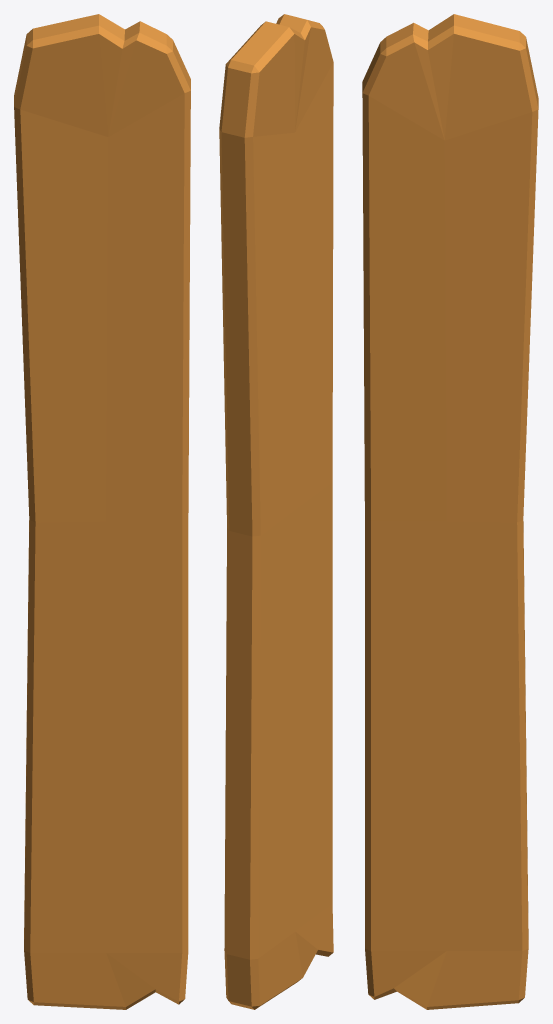
File: env_plank01.fbx
The picture shows the model from 3 angles, left to right: view 1: azimuth 90°, elevation 25°; view 2: azimuth 150°, elevation 25°; view 3: azimuth 270°, elevation 25°; orthographic projection. The views are drawn at different scales.
Parts seen in each view (by area): view 1: env_plank01; view 2: env_plank01; view 3: env_plank01.
Part boxes in pixels (x1=…): env_plank01: x1=14, y1=14, x2=190, y2=1009; env_plank01: x1=219, y1=14, x2=333, y2=1009; env_plank01: x1=362, y1=14, x2=538, y2=1009.
Bounding box in the file's own units: 3.92 × 93.93 × 15.26.
